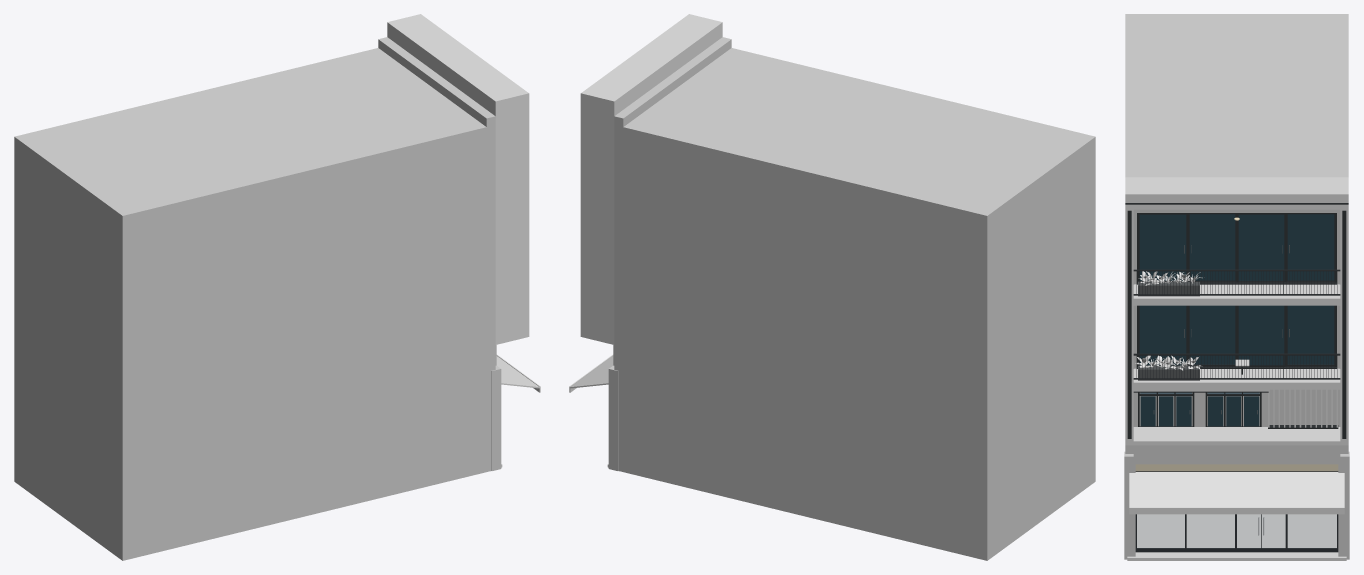
Rendered from OW_Mau_NhaPho_8_0_1_B.fbx.
3 renders of one model, left to right at view 1: azimuth 30°, elevation 25°; view 2: azimuth 150°, elevation 25°; view 3: azimuth 270°, elevation 25°, orthographic. The views are drawn at different scales.
Parts seen in each view (by area): view 1: OW_NhaPho_9043; view 2: OW_NhaPho_9043; view 3: OW_NhaPho_9043, OW_MatTienKinh.
Boxes of the visible parts, bbox=[...] form: OW_NhaPho_9043: bbox=[14, 14, 540, 560]; OW_NhaPho_9043: bbox=[569, 14, 1095, 560]; OW_NhaPho_9043: bbox=[1124, 14, 1349, 560]; OW_MatTienKinh: bbox=[1135, 464, 1338, 552].
Size of the model in its own units: 17.77 by 14.9 by 8.
